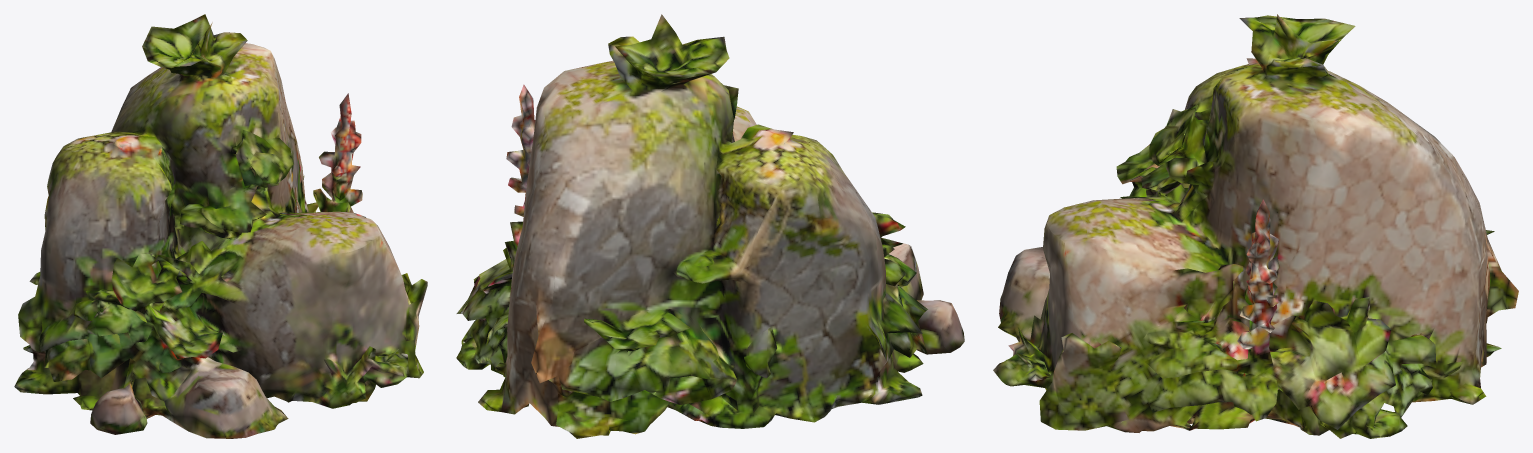
The model's file is SpringDecor_FirstRoom_FlowerRock.fbx.
The picture shows the model from 3 angles, left to right: view 1: azimuth 30°, elevation 25°; view 2: azimuth 150°, elevation 25°; view 3: azimuth 270°, elevation 25°; orthographic projection. The views are drawn at different scales.
Parts seen in each view (by area): view 1: SpringDecor_FirstRoom_FlowerRock_Mesh; view 2: SpringDecor_FirstRoom_FlowerRock_Mesh; view 3: SpringDecor_FirstRoom_FlowerRock_Mesh.
Part boxes in pixels (<box>): SpringDecor_FirstRoom_FlowerRock_Mesh: <box>14,14,427,438</box>; SpringDecor_FirstRoom_FlowerRock_Mesh: <box>456,14,964,438</box>; SpringDecor_FirstRoom_FlowerRock_Mesh: <box>993,14,1518,438</box>.
Size of the model in its own units: 5.62 by 4.5 by 6.
1 material, 1 textured.
